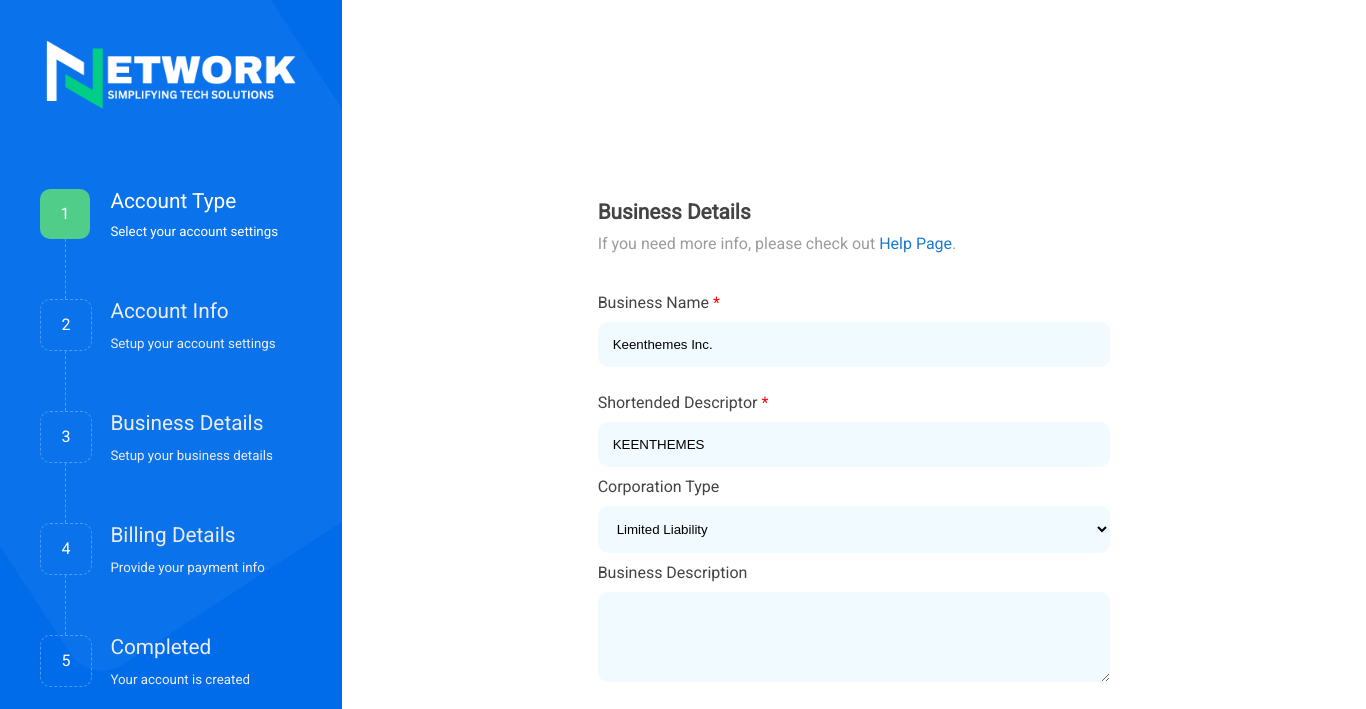
Test: <BusinessDetails /> › Should display an error if Business Name is empty and I press 'Continue'
The width and height of the screenshot is (1366, 709).
Clear the field with test id "business-name" at (854, 344), box top-left (598, 322), bottom-right (1110, 367)
(page scrolled)
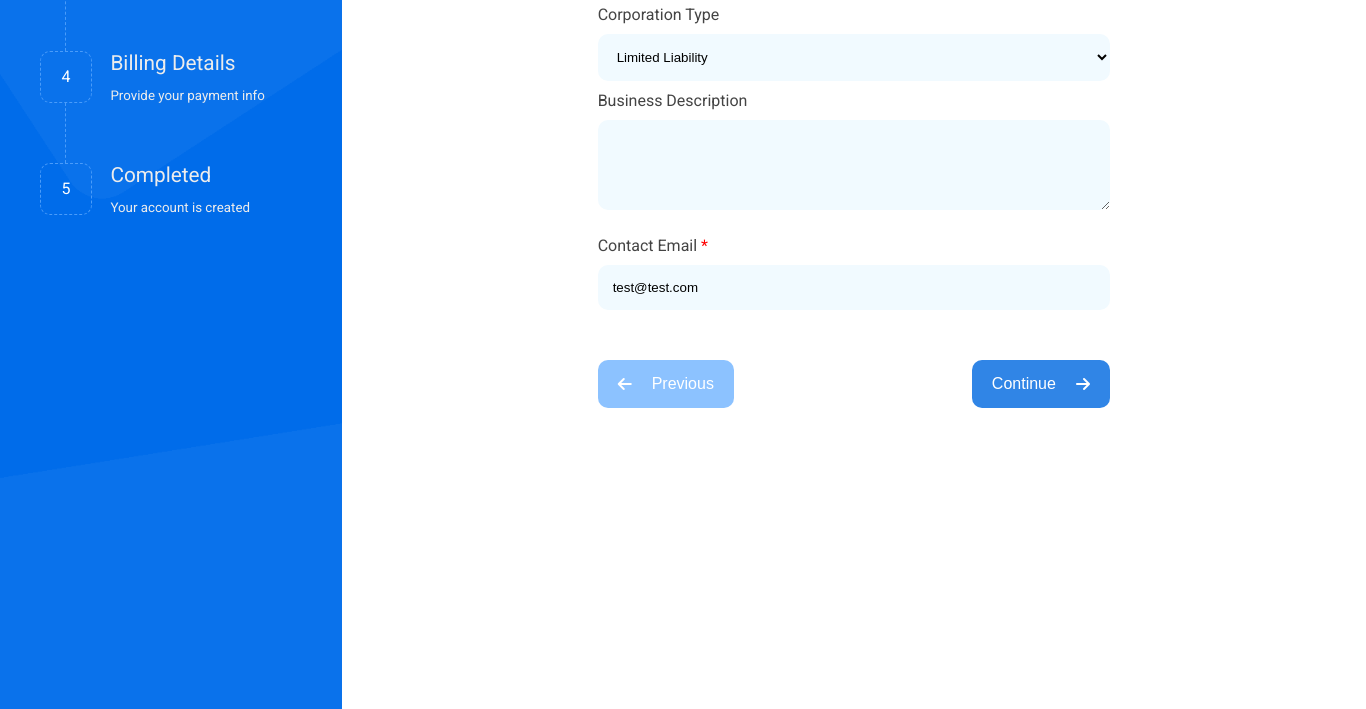
Click the button with test id "actions-next-button" at (1041, 384), box top-left (972, 360), bottom-right (1110, 408)
(page scrolled)
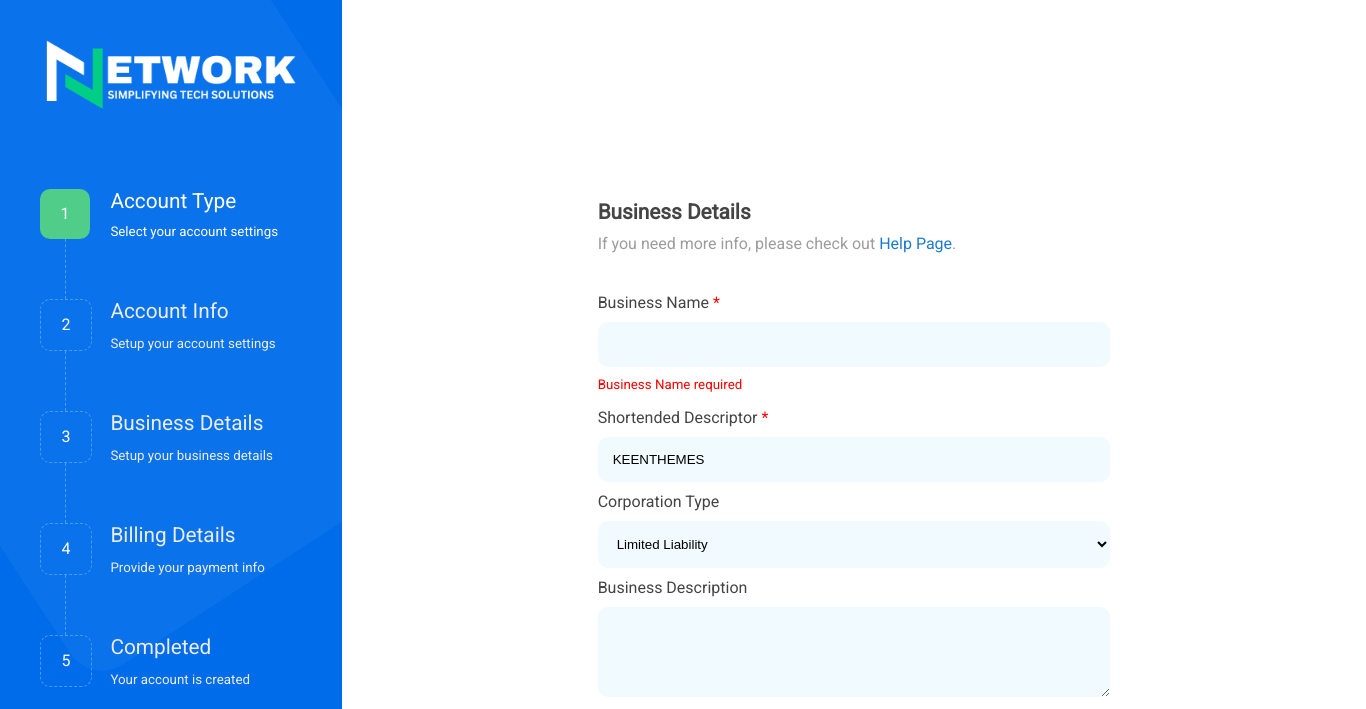
Now the text "Business Name required" is shown, box top-left (598, 377), bottom-right (742, 392)
